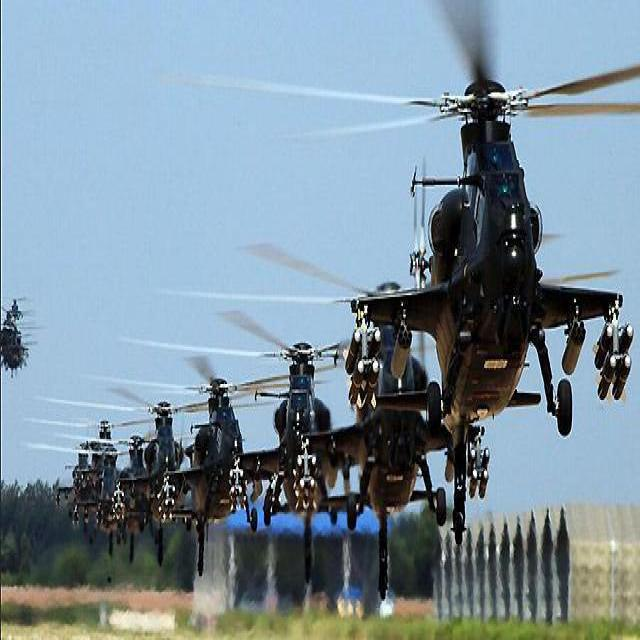MIL_HELO: (167, 18, 640, 447), (249, 233, 476, 562), (153, 302, 365, 573), (122, 353, 275, 577)
